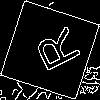R: (25, 25, 83, 78)
